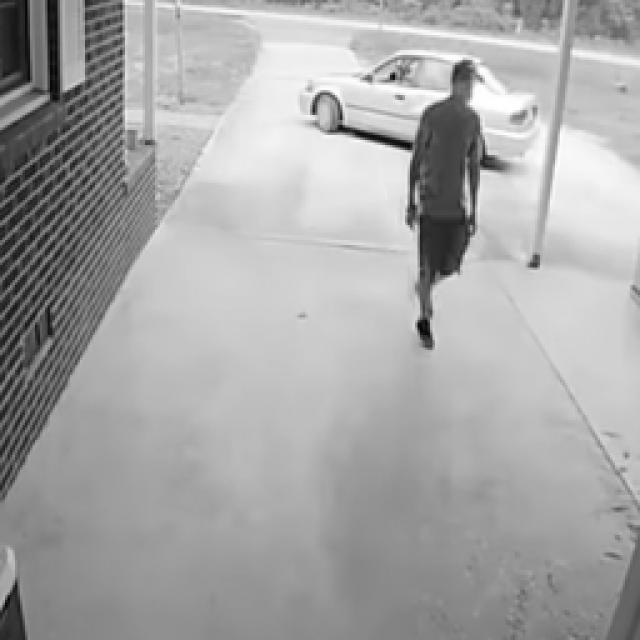Invader: (403, 58, 485, 350)
